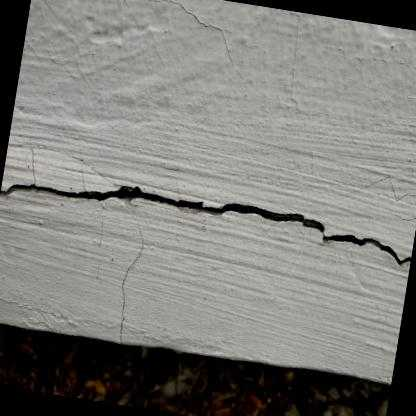crack: (0, 183, 411, 265), (119, 220, 143, 343)
